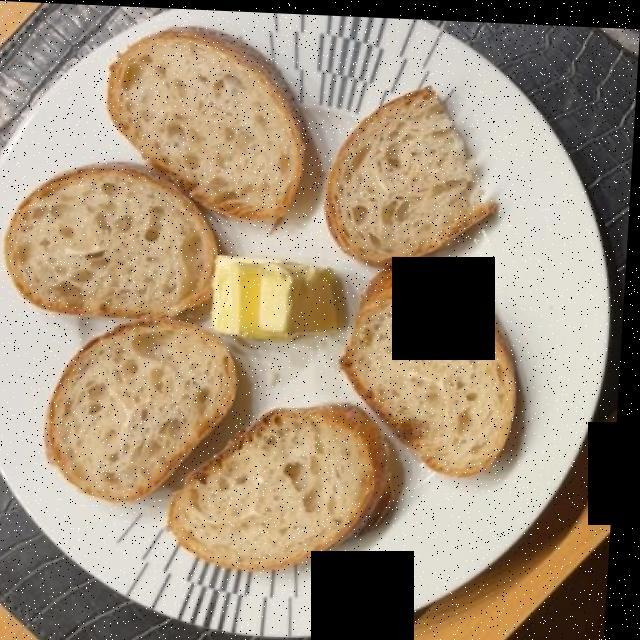bread: (23, 31, 531, 558)
butter: (218, 251, 335, 339)
